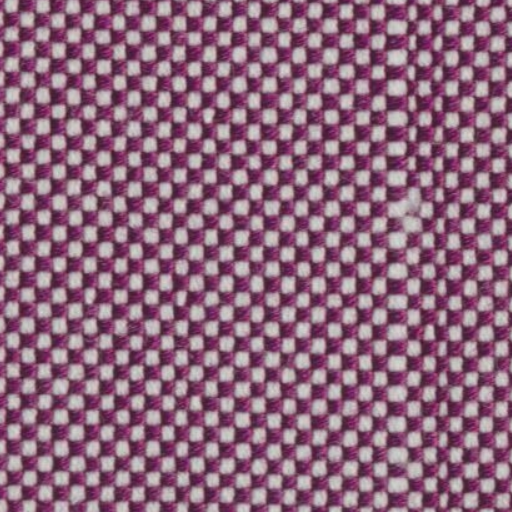TuoSha: (364, 3, 446, 503)
